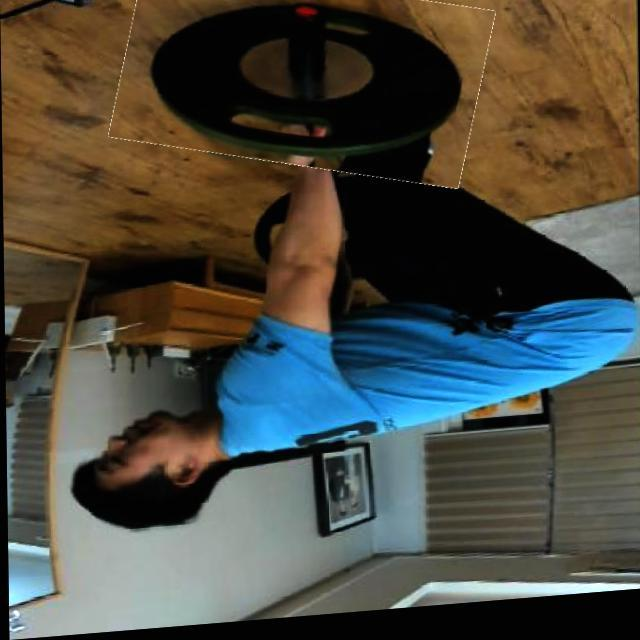barbell: (115, 1, 490, 201)
